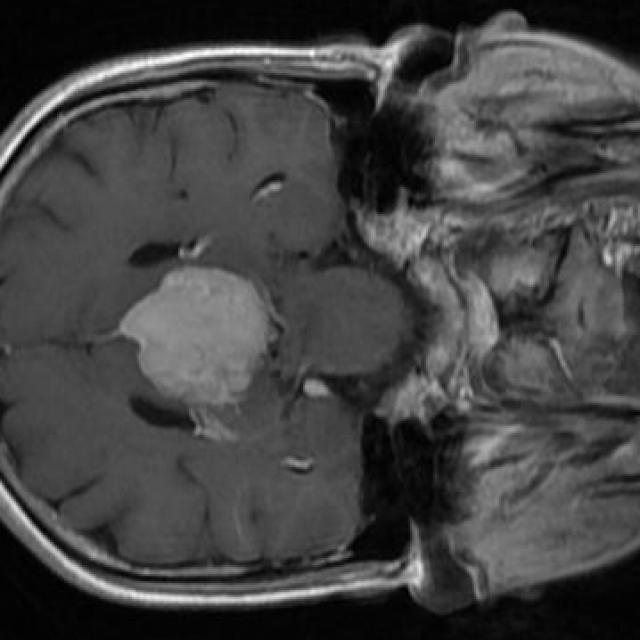meningioma: (118, 267, 266, 408)
